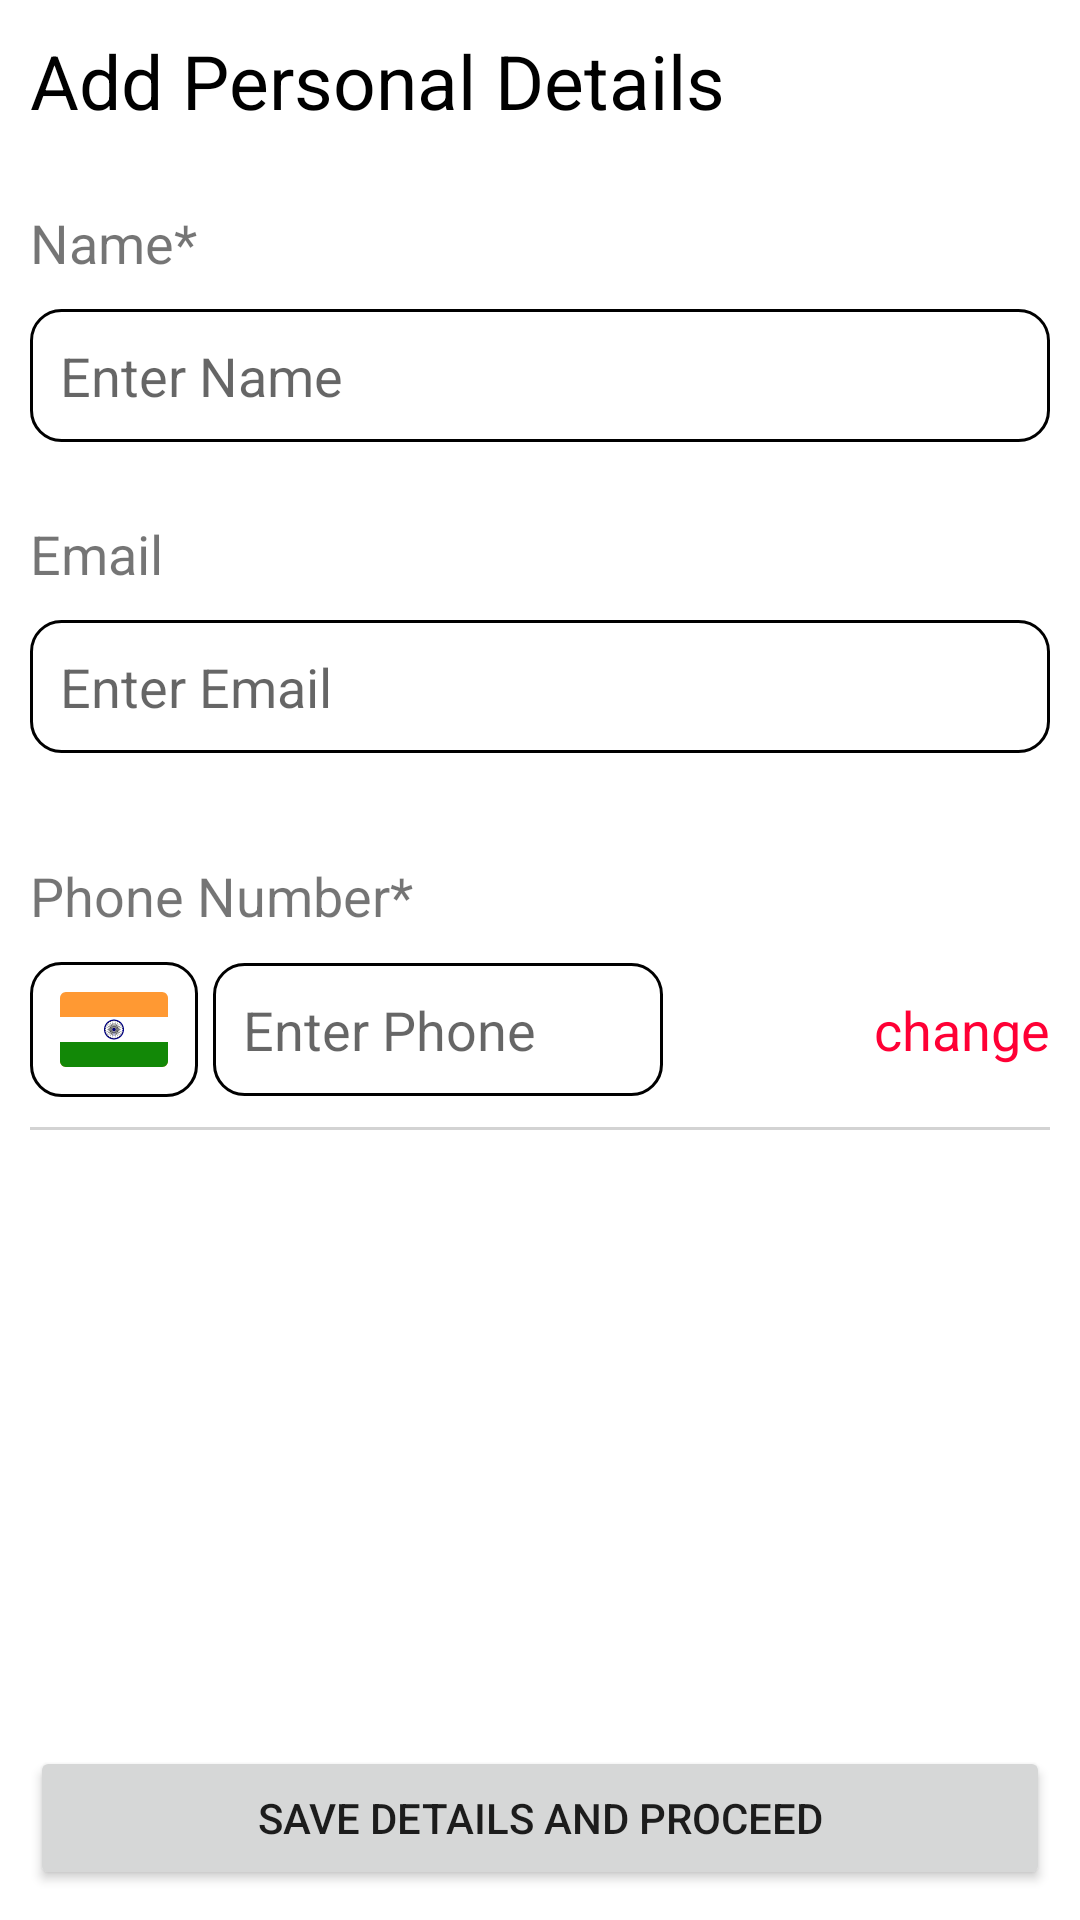

Icons on this 1080px×1920px Android screen, each with the point to tap as point (x, y):
india flag: point (114, 1029)
